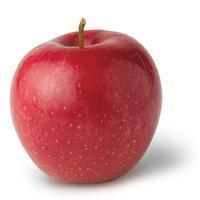apple: (9, 18, 164, 187)
